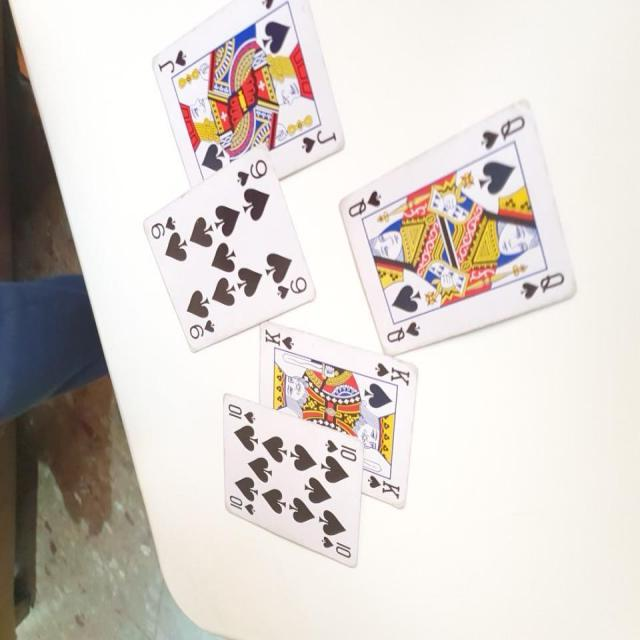10 of spades: (218, 386, 366, 574)
9 of spades: (138, 146, 320, 358)
jack of spades: (153, 0, 351, 189)
king of spades: (249, 316, 423, 514)
queen of spades: (336, 98, 577, 358)
